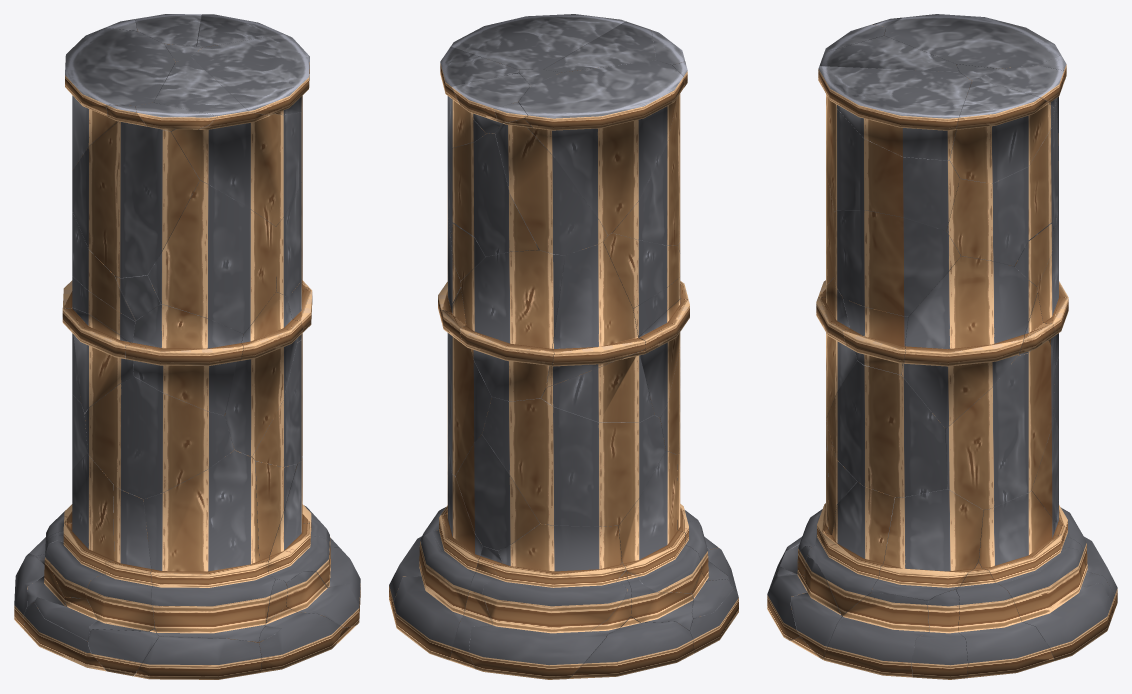
Rendered from Columnas.gltf.
The picture shows the model from 3 angles, left to right: view 1: azimuth 30°, elevation 25°; view 2: azimuth 150°, elevation 25°; view 3: azimuth 270°, elevation 25°; orthographic projection.
Visible parts, largest first — view 1: Cylinder.049_cell.014, Cylinder.049_cell.041, Cylinder.049_cell.075, Cylinder.049_cell.031, Cylinder.049_cell.008, Cylinder.049_cell.045, Cylinder.049_cell.047, Cylinder.049_cell.063, Cylinder.049_cell.024, Cylinder.049_cell.003, Cylinder.049_cell.030, Cylinder.049_cell.019 (+24 smaller); view 2: Cylinder.049_cell.004, Cylinder.049_cell.047, Cylinder.049_cell.036, Cylinder.049_cell.064, Cylinder.049_cell.061, Cylinder.049_cell.012, Cylinder.049_cell.006, Cylinder.049_cell.046, Cylinder.049_cell.030, Cylinder.049_cell.024, Cylinder.049_cell.058, Cylinder.049_cell.016 (+21 smaller); view 3: Cylinder.049_cell.062, Cylinder.049_cell.031, Cylinder.049_cell.012, Cylinder.049_cell.066, Cylinder.049_cell.011, Cylinder.049_cell.024, Cylinder.049_cell.043, Cylinder.049_cell.046, Cylinder.049_cell.010, Cylinder.049_cell.057, Cylinder.049_cell.028, Cylinder.049_cell.015 (+18 smaller).
Boxes of the visible parts, box(x1,y1,x2,y2) form: Cylinder.049_cell.014: box(143, 449, 275, 642); Cylinder.049_cell.041: box(72, 121, 199, 277); Cylinder.049_cell.075: box(148, 180, 275, 333); Cylinder.049_cell.031: box(154, 56, 302, 226); Cylinder.049_cell.008: box(84, 376, 234, 498); Cylinder.049_cell.045: box(125, 304, 243, 415); Cylinder.049_cell.047: box(65, 28, 175, 170); Cylinder.049_cell.063: box(224, 292, 303, 456); Cylinder.049_cell.024: box(191, 34, 309, 115); Cylinder.049_cell.003: box(87, 484, 155, 631); Cylinder.049_cell.030: box(45, 453, 114, 599); Cylinder.049_cell.019: box(134, 636, 261, 679); Cylinder.049_cell.004: box(469, 523, 627, 679); Cylinder.049_cell.047: box(518, 60, 684, 234); Cylinder.049_cell.036: box(482, 397, 665, 526); Cylinder.049_cell.064: box(460, 250, 564, 401); Cylinder.049_cell.061: box(546, 242, 645, 387); Cylinder.049_cell.012: box(393, 460, 482, 660); Cylinder.049_cell.006: box(495, 118, 607, 255); Cylinder.049_cell.046: box(447, 69, 561, 257); Cylinder.049_cell.030: box(618, 451, 701, 592); Cylinder.049_cell.024: box(451, 14, 625, 69); Cylinder.049_cell.058: box(455, 435, 539, 550); Cylinder.049_cell.016: box(541, 349, 654, 422); Cylinder.049_cell.062: box(901, 256, 1037, 428); Cylinder.049_cell.031: box(818, 36, 959, 230); Cylinder.049_cell.012: box(978, 490, 1111, 660); Cylinder.049_cell.066: box(945, 340, 1055, 509); Cylinder.049_cell.011: box(826, 360, 947, 497); Cylinder.049_cell.024: box(818, 66, 971, 160); Cylinder.049_cell.043: box(834, 210, 960, 316); Cylinder.049_cell.046: box(946, 64, 1058, 266); Cylinder.049_cell.010: box(871, 487, 983, 600); Cylinder.049_cell.057: box(950, 79, 1054, 183); Cylinder.049_cell.028: box(956, 562, 1054, 678); Cylinder.049_cell.015: box(808, 482, 895, 616).
Bounding box in the file's own units: 2.35 × 4 × 2.35.
Materials: 1 (1 with a texture image).
